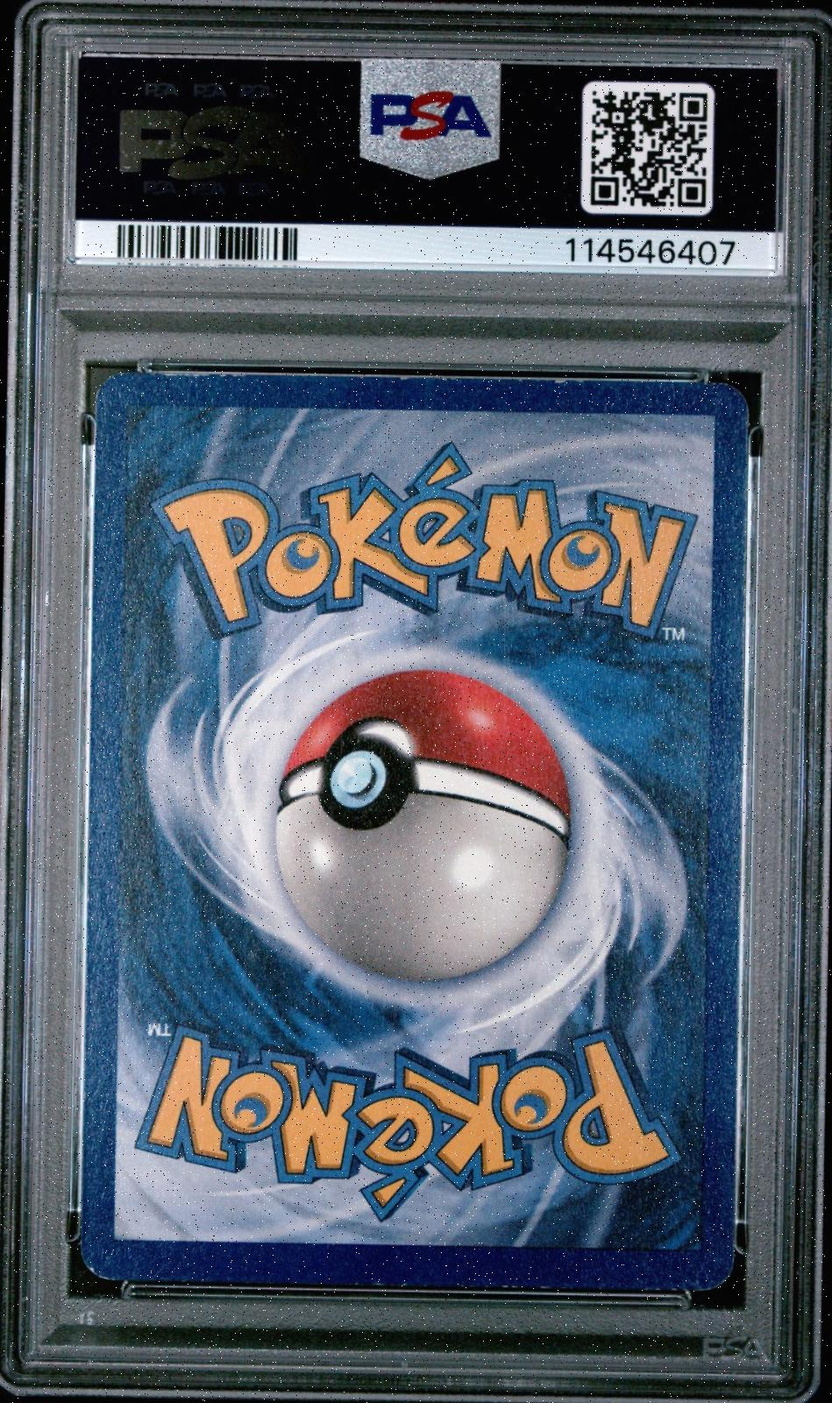card-2UtV: (79, 371, 749, 1292)
